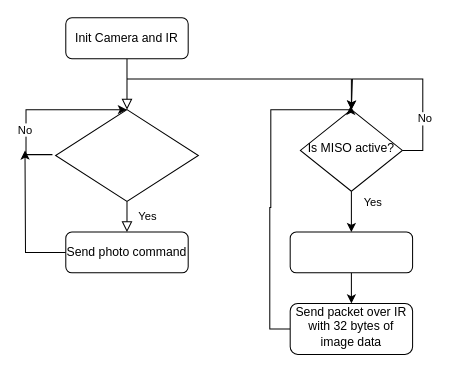
Some shapes in this 449 by 372 pixel diagram are drawn without their labels. Here are the shapes that lost their labels. From the top down, the centre of each, then its label:
At (x=126, y=155): "Has BT1 been pressed?".
At (x=351, y=252): "Recieve 32 Bytes of data".
